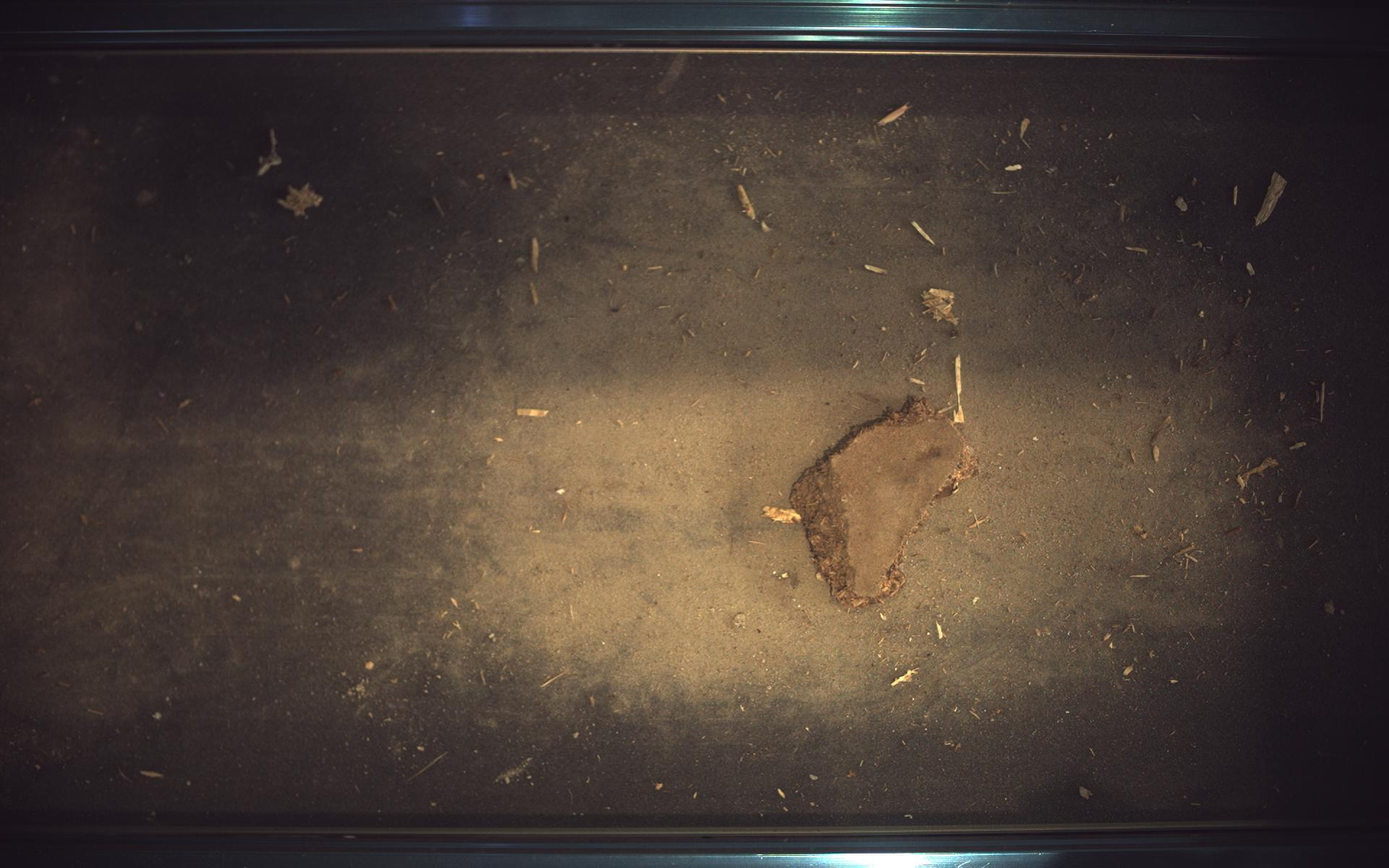wood: (792, 396, 980, 610)
